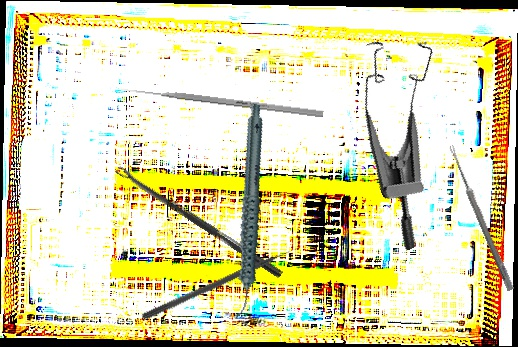Handpiece: (190, 102, 306, 321)
Pusher: (140, 242, 305, 323), (120, 85, 324, 118)
Speculum: (328, 22, 498, 252)
Surgical Spoon: (115, 164, 284, 279), (446, 144, 516, 292)
